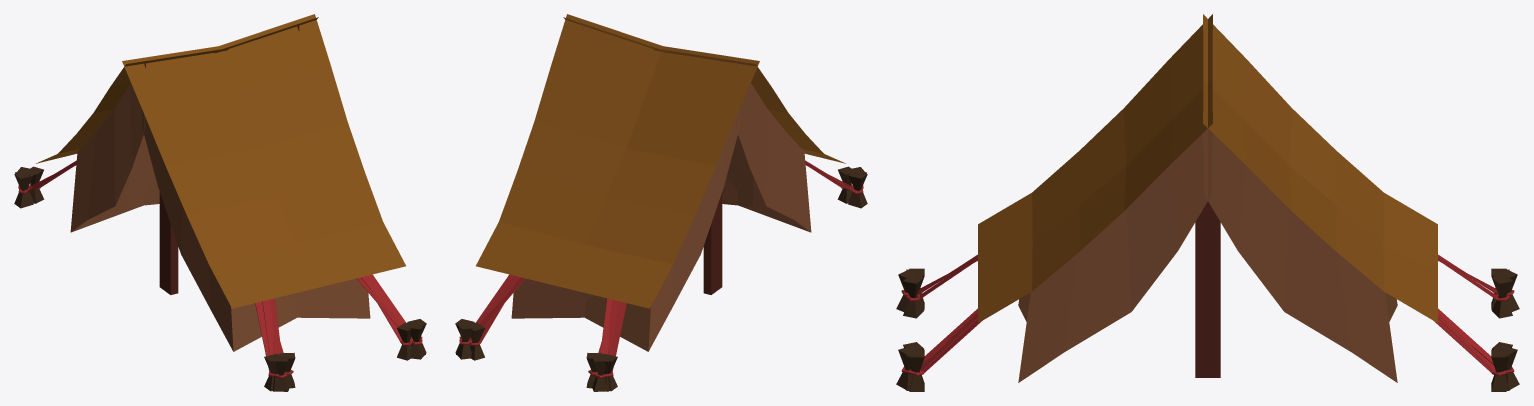
Rendered from tentdessert.fbx.
The picture shows the model from 3 angles, left to right: view 1: azimuth 30°, elevation 25°; view 2: azimuth 150°, elevation 25°; view 3: azimuth 270°, elevation 25°; orthographic projection. The views are drawn at different scales.
Parts seen in each view (by area): view 1: Plane; view 2: Plane; view 3: Plane.
Boxes of the visible parts, x1=… form: Plane: x1=14, y1=14, x2=426, y2=391; Plane: x1=455, y1=14, x2=867, y2=391; Plane: x1=896, y1=14, x2=1519, y2=391.
Bounding box in the file's own units: 200 × 237 × 481.
